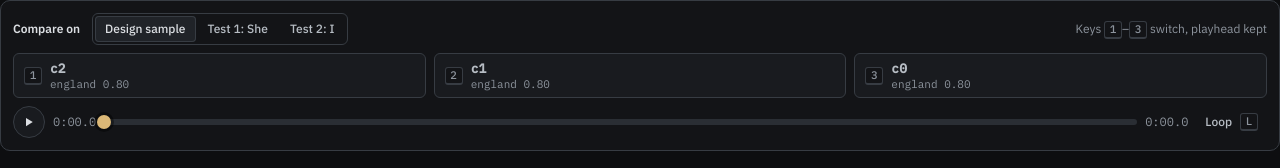
Test: CompareBar › on a test line a candidate without a clone test is disabled
The image size is (1280, 168).
What coordinates should you click on to do the following:
click the button "Test 1: She"
I would click on:
 (238, 29)
Its box is [198,16,278,42].
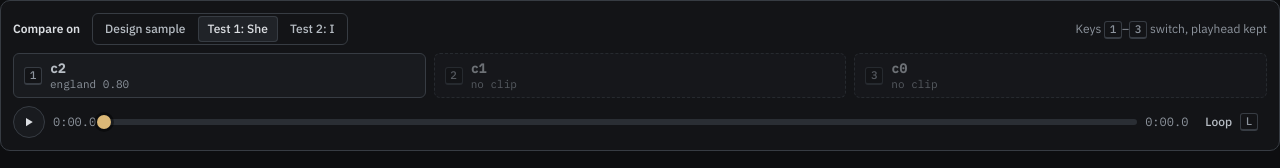
Expected: the button with class "slot" showing "1 c2 england 0.80" is enabled, [13,53,426,98]
Result: the button with class "slot" showing "2 c1 no clip" is disabled at [434,53,846,98]
Result: the button with class "slot" shows "no clip" at [434,53,846,98]
